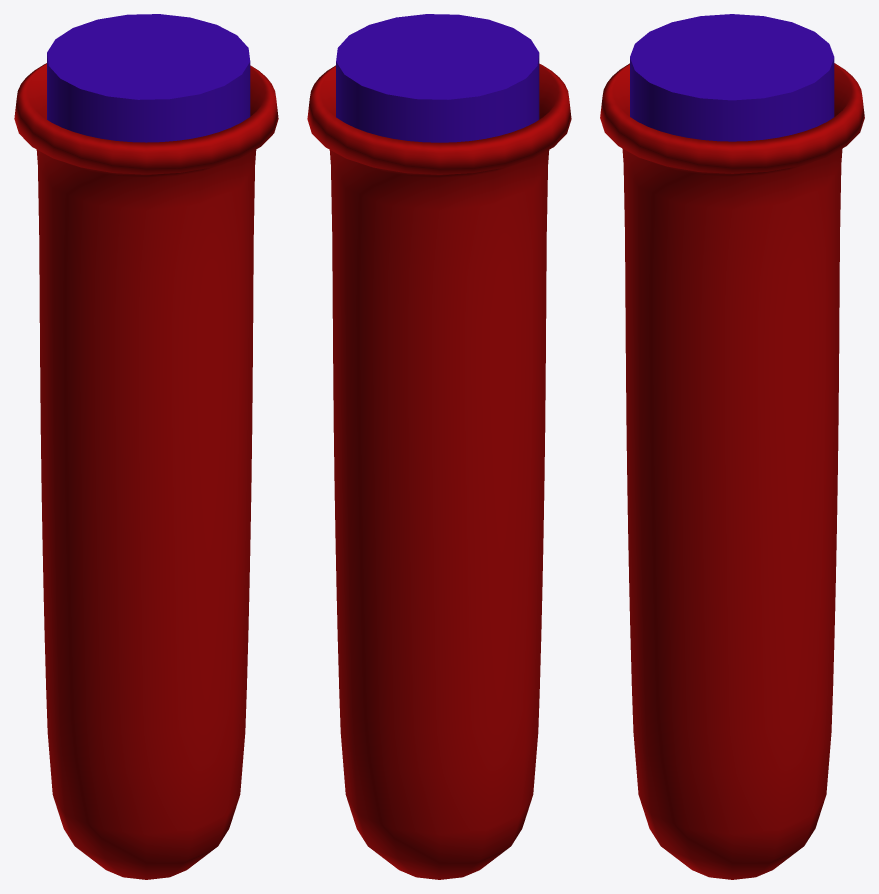
The model's file is TestTube3.fbx.
The picture shows the model from 3 angles, left to right: view 1: azimuth 30°, elevation 25°; view 2: azimuth 150°, elevation 25°; view 3: azimuth 270°, elevation 25°; orthographic projection.
Visible parts, largest first — view 1: TestTube3; view 2: TestTube3; view 3: TestTube3.
Part boxes in pixels (x1,y1,x2,y2): TestTube3: (14,14,278,879); TestTube3: (307,14,571,879); TestTube3: (600,14,864,879).
Size of the model in its own units: 6.67 by 22.43 by 6.67.
